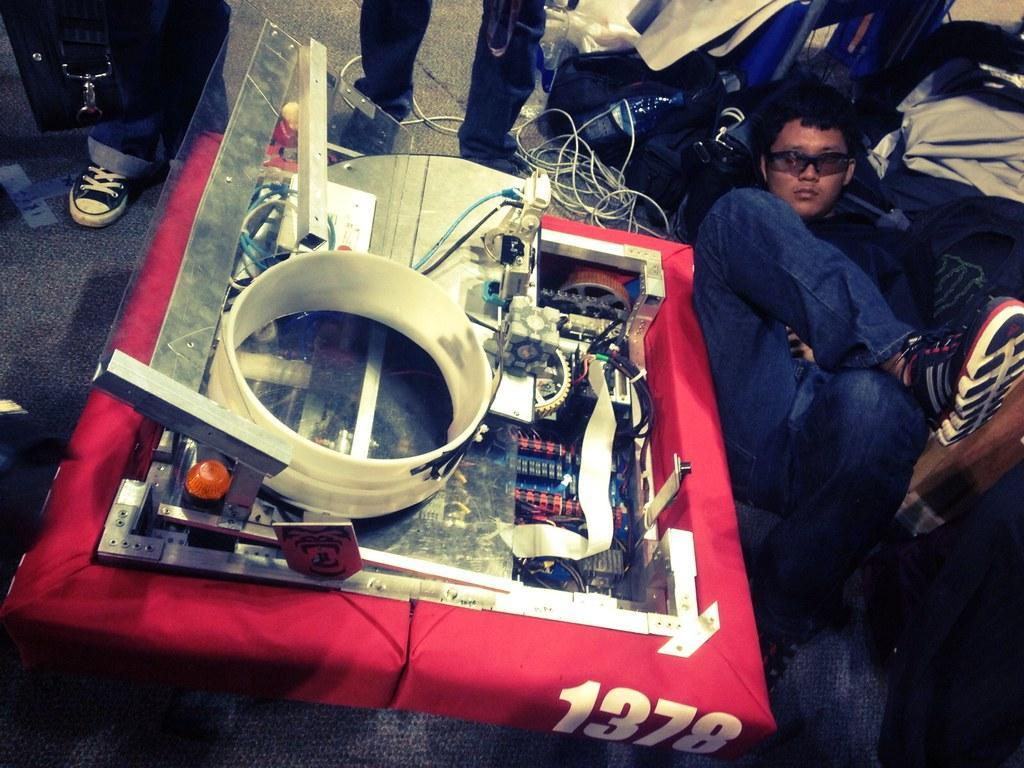robot: (0, 20, 777, 764)
